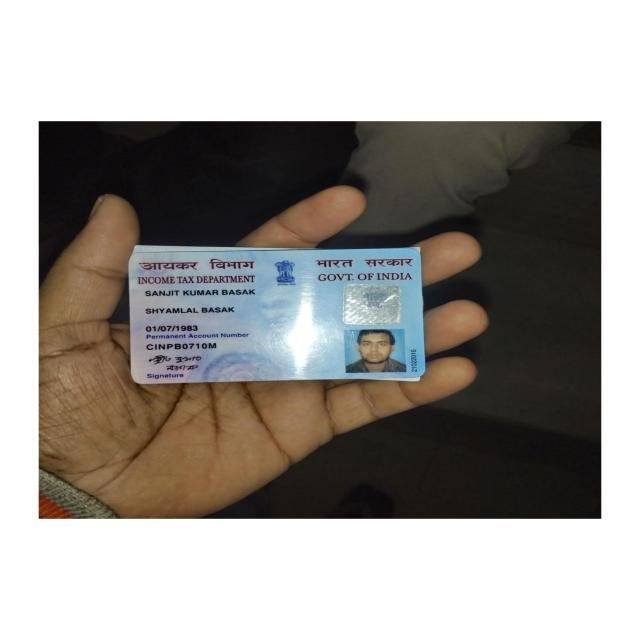pan_card: (125, 250, 425, 384)
